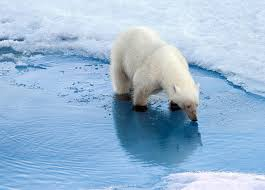PolarBear: (99, 22, 206, 127)
